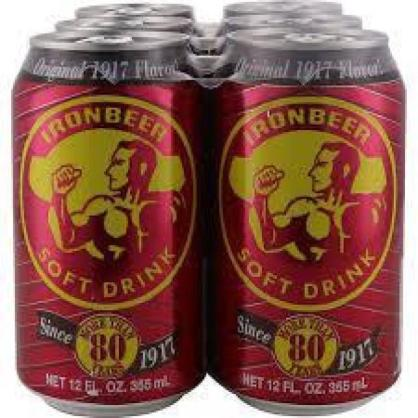can: (10, 29, 206, 415), (211, 30, 403, 418)
